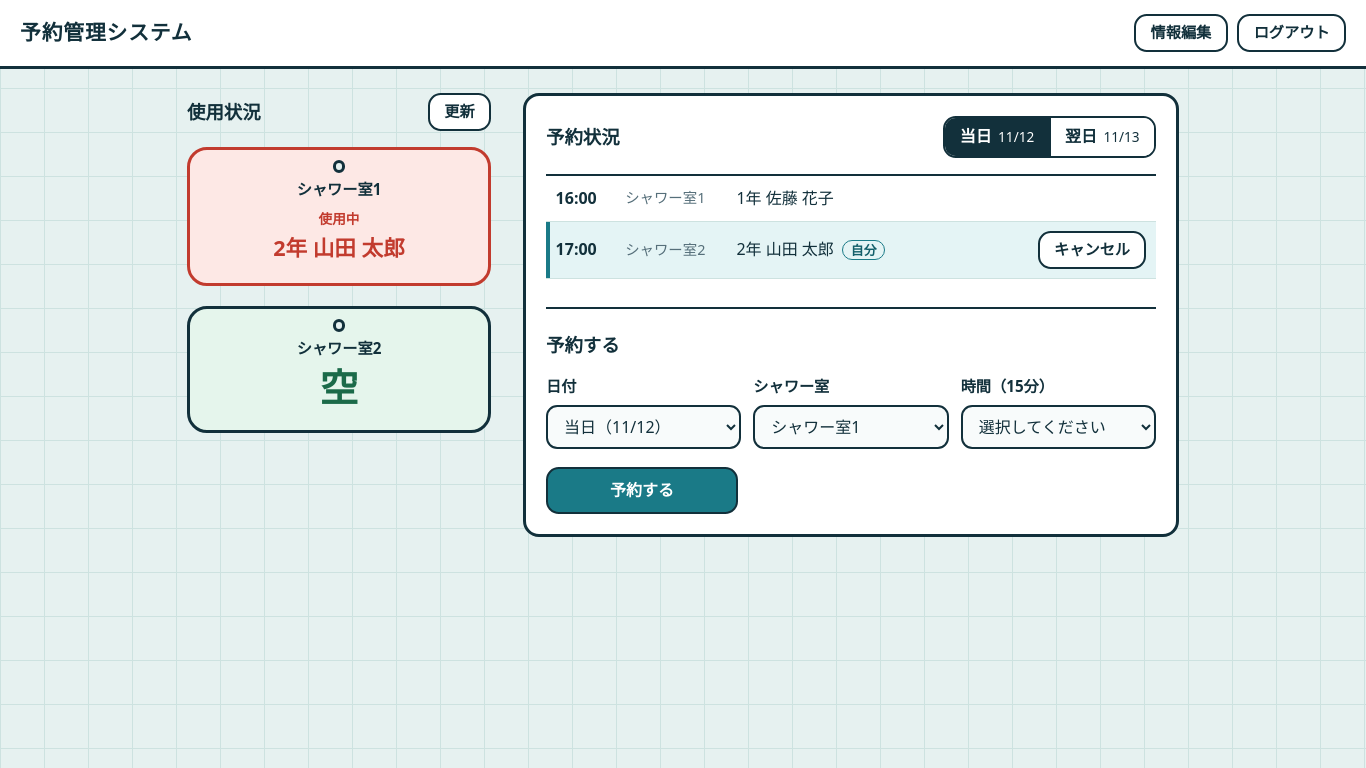
トップページ：予約する欄 › 日付・シャワー室・時間を選んで予約すると、POST /reservations を呼び、一覧に反映する
Expected: the heading "使用状況" is shown, [187, 96, 261, 127]
Expected: the heading "シャワー室1" is shown, [297, 179, 381, 199]
Select "18:00" in the dropdown labelled "時間（15分）" at coordinates (1058, 427), box [961, 405, 1156, 449]
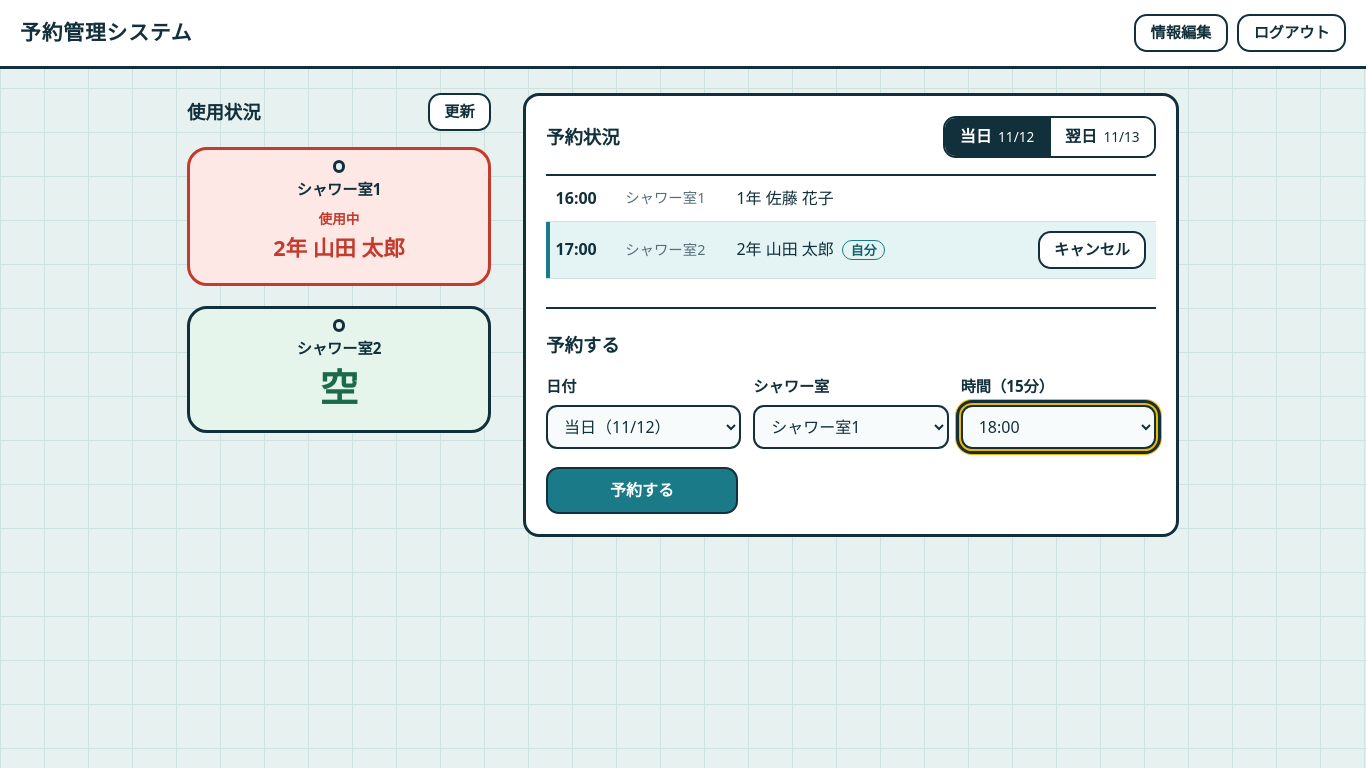
Click the button "予約する" at coordinates (642, 490), box [546, 467, 738, 514]
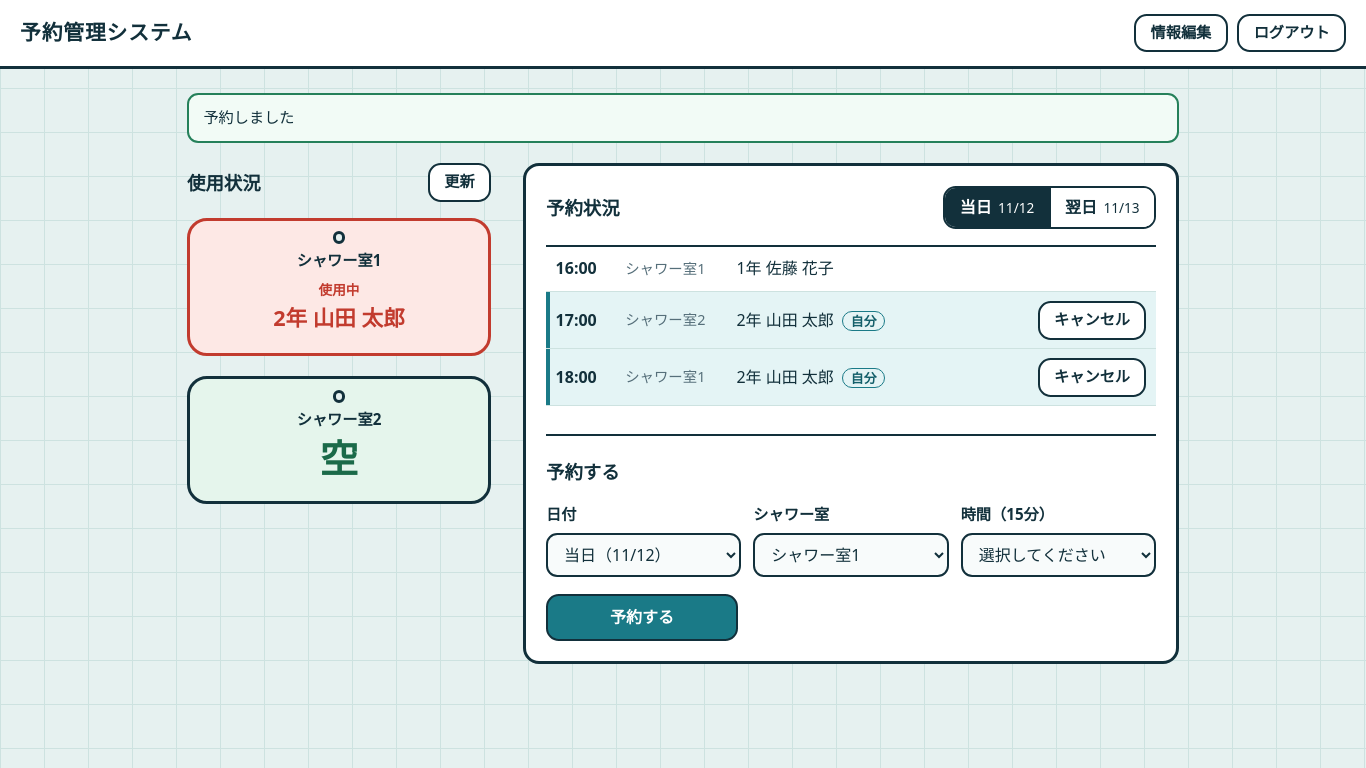
Now the message reads "予約しました", box [203, 107, 294, 127]
